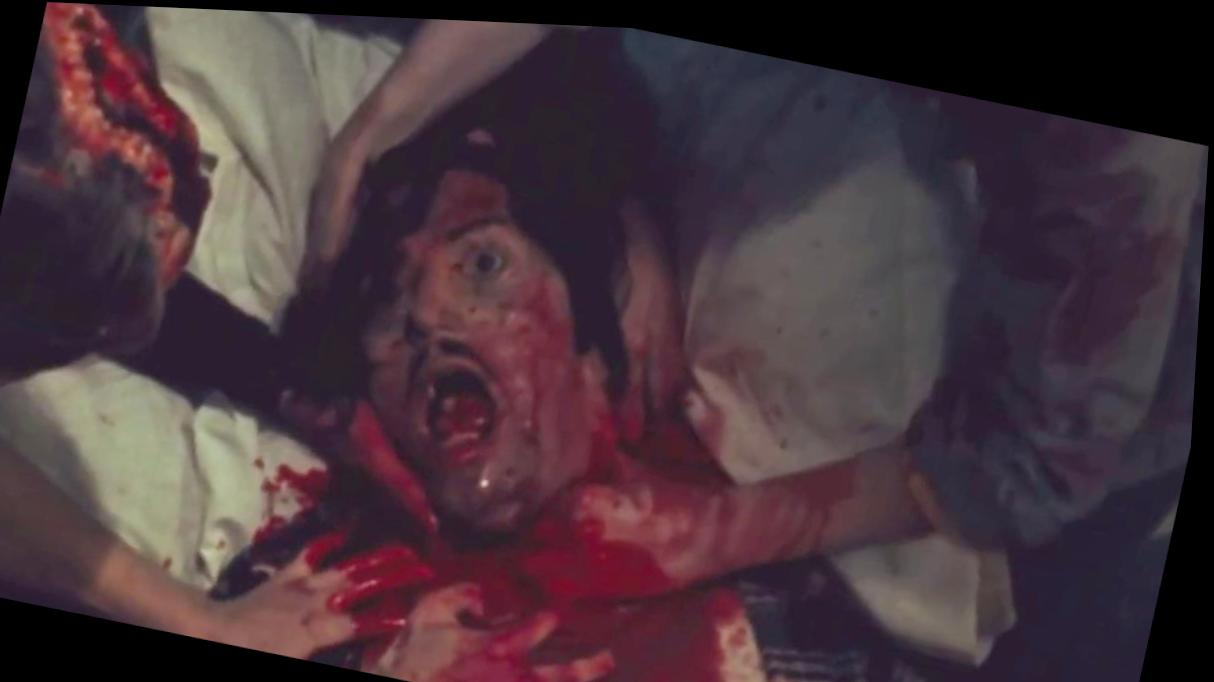Fire: (220, 166, 855, 682), (38, 2, 206, 286)
